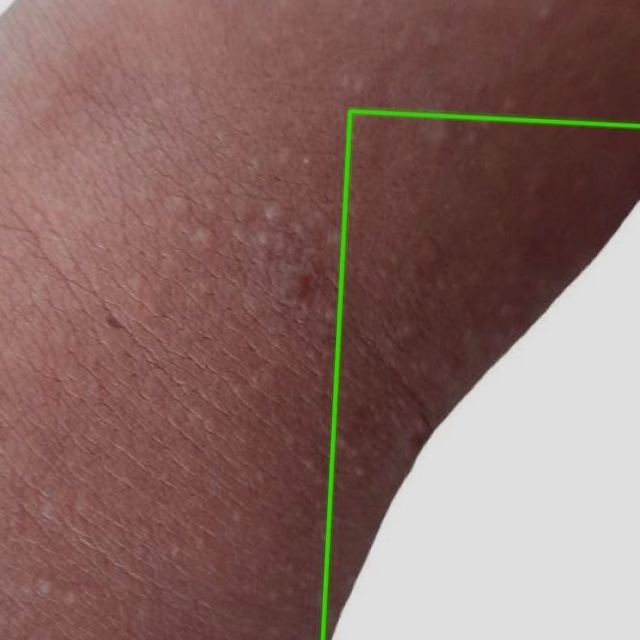Scabies: (321, 110, 639, 639)
